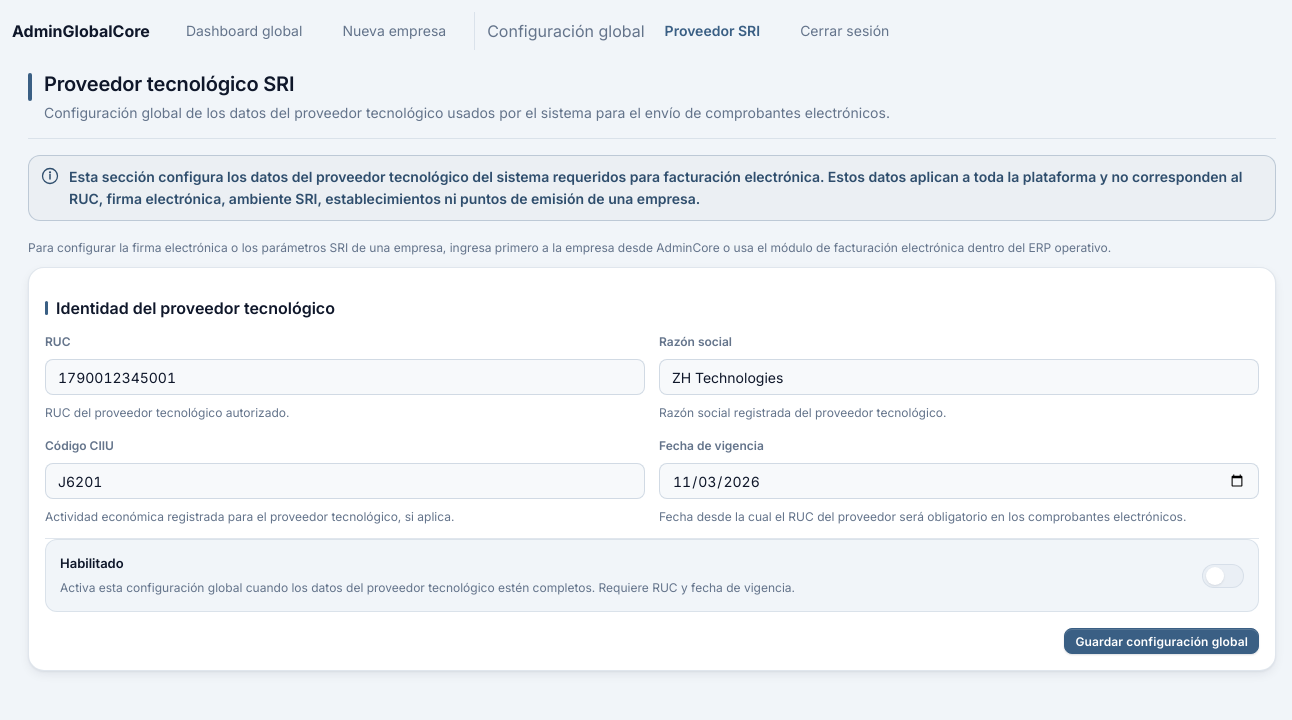
AdminCoreSystemProviderSettingsPage › muestra junto a la fecha el error 422 del backend (autoridad)
Check: the field showing "1790012345001" is shown, box [45, 359, 645, 395]
Click the switch: coordinates (1223, 576) [1202, 564, 1244, 588]
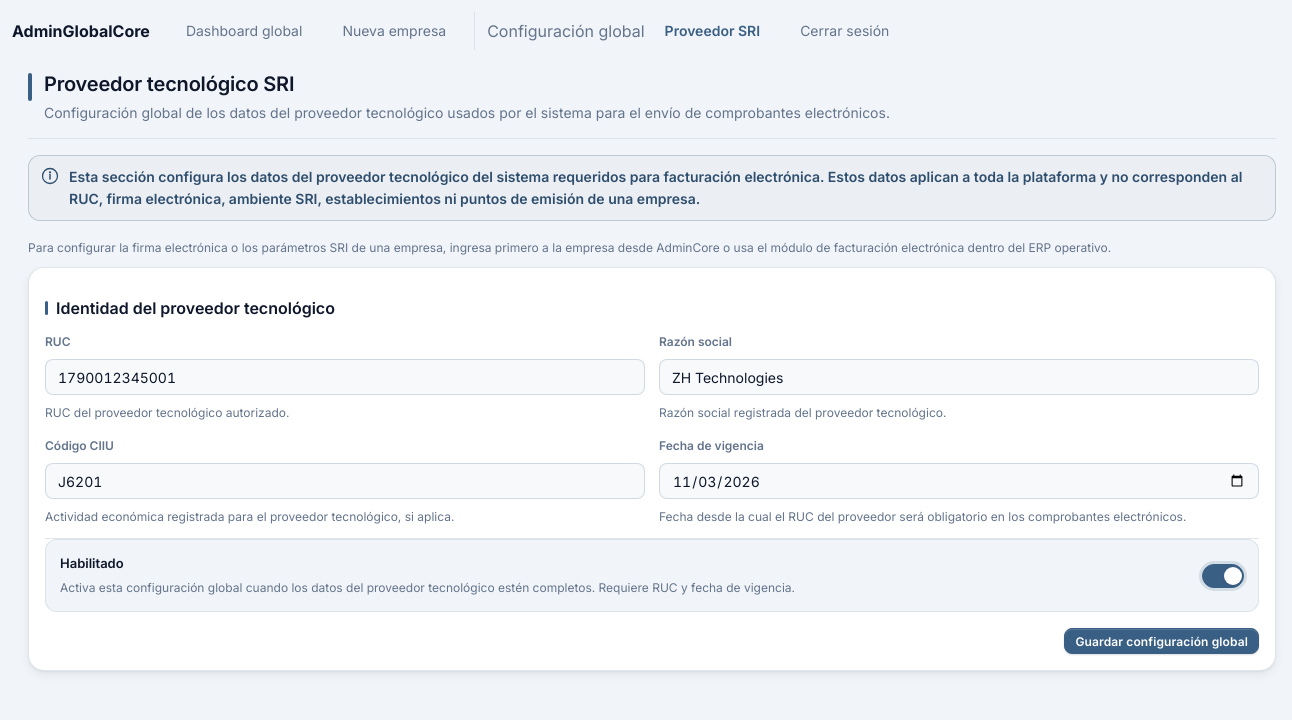
Click the button "Guardar configuración global": coordinates (1162, 641) [1064, 628, 1259, 654]
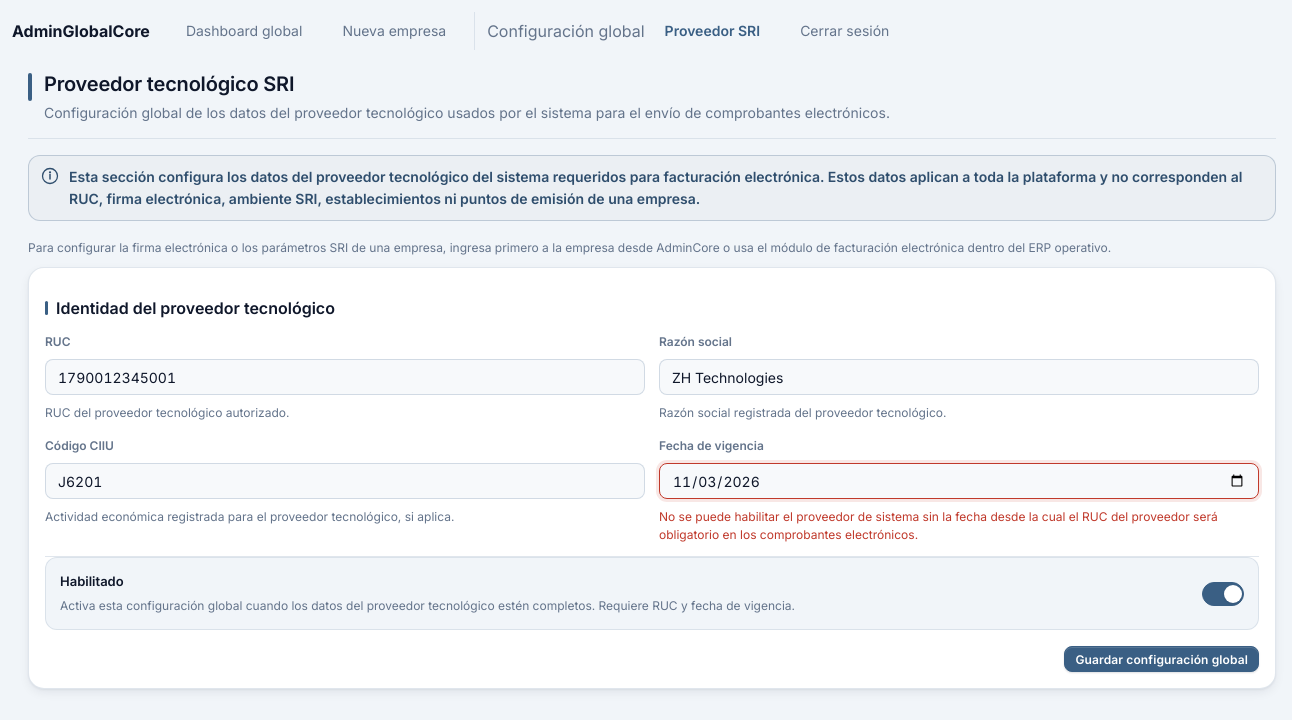
Check: the text "No se puede habilitar el proveedor de sistema sin la fecha" is shown, box [659, 509, 1218, 542]
